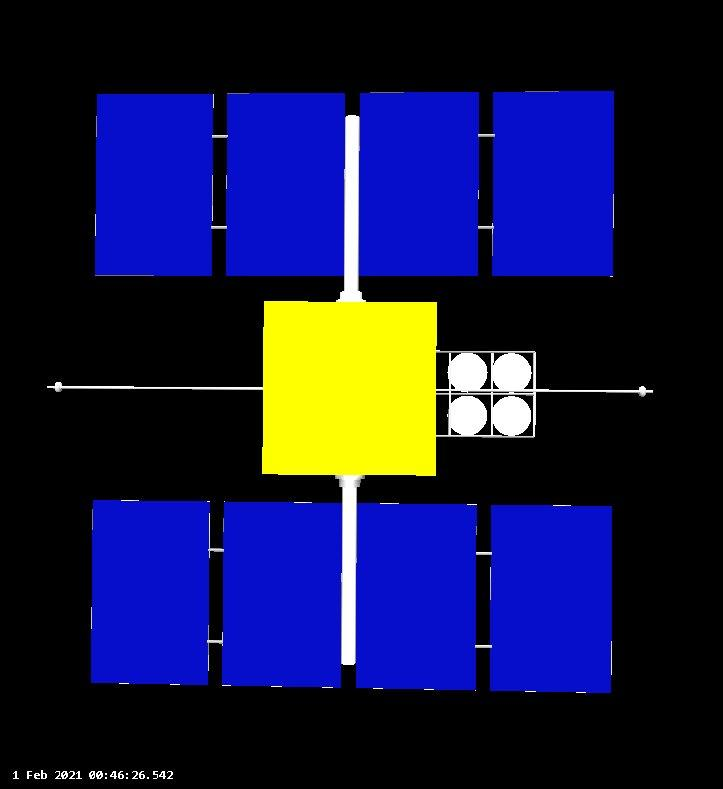antenna: (42, 377, 270, 400), (433, 380, 659, 399), (490, 348, 532, 396), (444, 350, 488, 395), (445, 395, 491, 435), (490, 395, 535, 435)
body: (258, 293, 441, 481)
solar: (89, 492, 619, 700), (90, 85, 621, 283)
